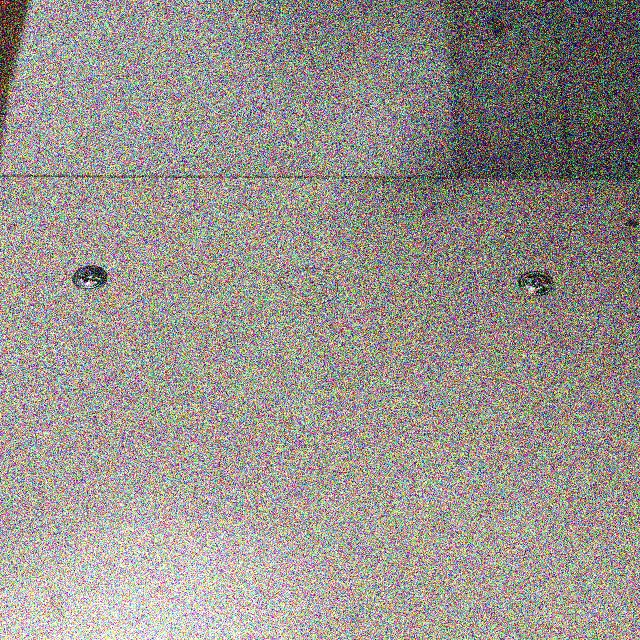pozidriv: (72, 265, 108, 292), (518, 271, 554, 297)
